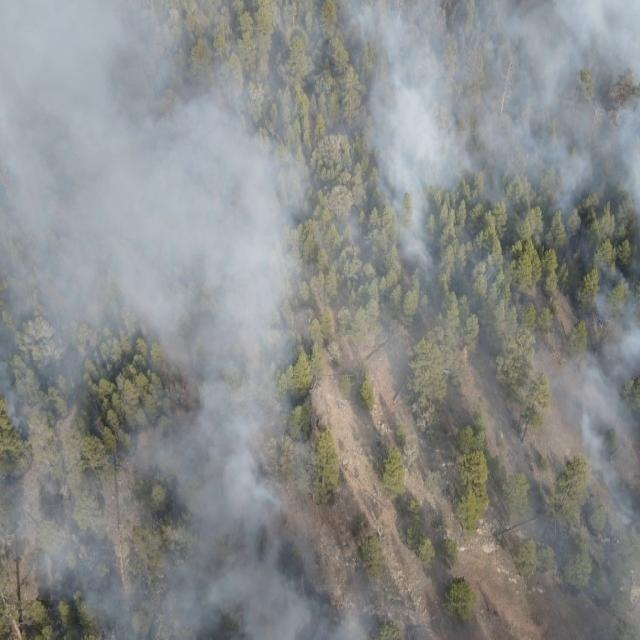smoke: (0, 0, 398, 640), (351, 0, 640, 378), (523, 370, 640, 640)
